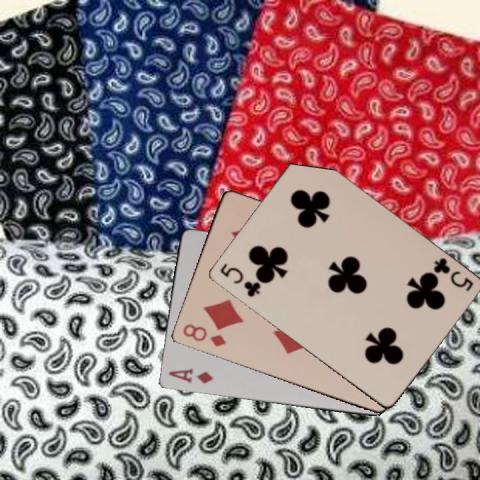5c: (429, 255, 475, 293), (217, 260, 261, 299)
8d: (180, 320, 228, 348)
Ad: (166, 366, 215, 386)
